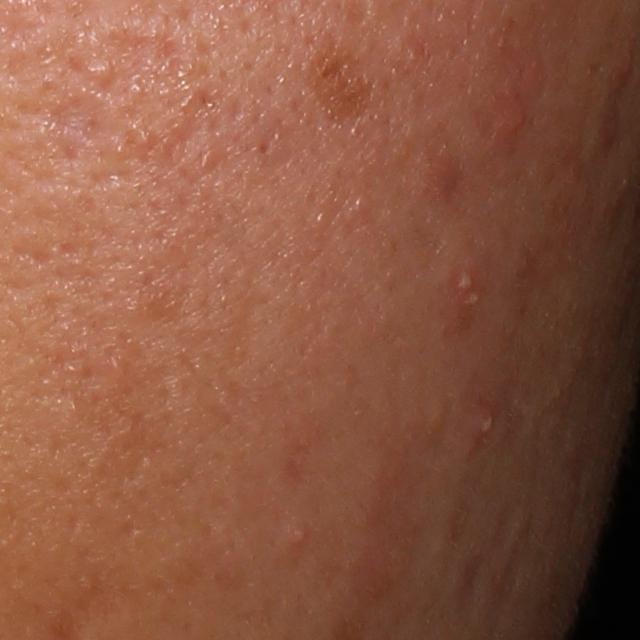papule: (489, 105, 534, 140)
pustule: (446, 257, 487, 309), (474, 402, 498, 443)
